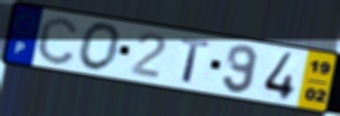2: (129, 31, 168, 80)
4: (261, 50, 296, 103)
9: (222, 43, 260, 96)
C: (34, 15, 81, 67)
O: (76, 20, 124, 73)
T: (178, 36, 213, 85)
